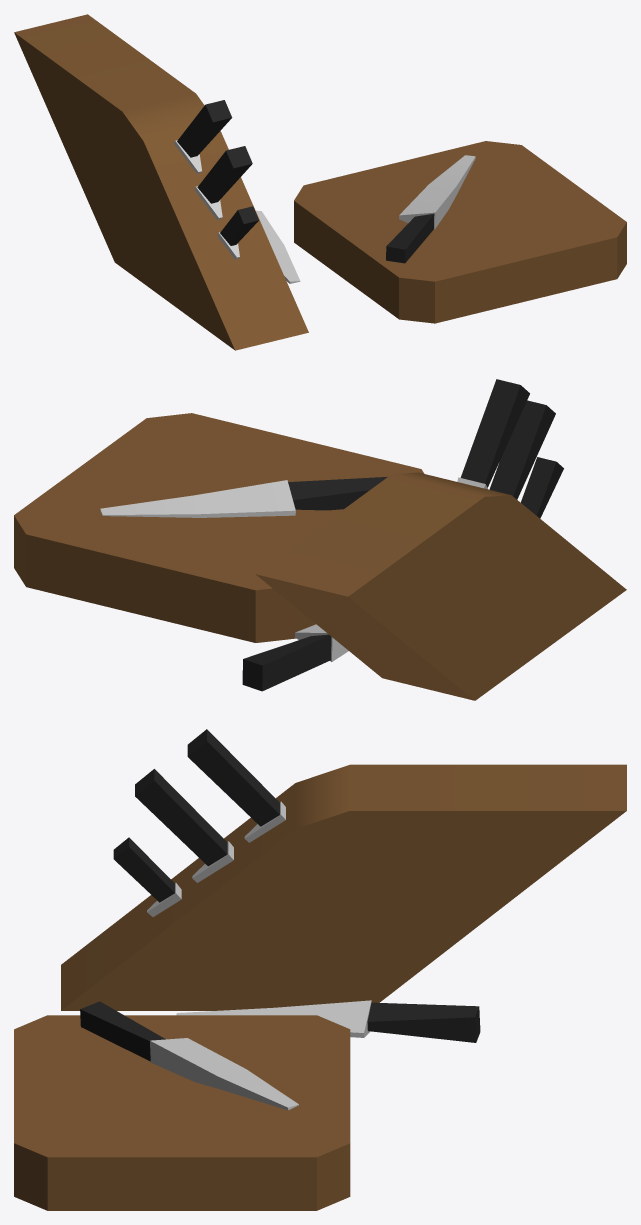
Rendered from geo_KnifeBlockChoppingBoard_01.fbx.
3 renders of one model, top to bottom at view 1: azimuth 30°, elevation 25°; view 2: azimuth 150°, elevation 25°; view 3: azimuth 270°, elevation 25°, orthographic. The views are drawn at different scales.
Visible parts, largest first — view 1: pCube1, pCube7, pCube5, pCube3, pCube2, pCube4, pCube6; view 2: pCube1, pCube7, pCube5, pCube2, pCube6, pCube3, pCube4; view 3: pCube1, pCube7, pCube5, pCube6, pCube3, pCube2, pCube4.
Boxes of the visible parts, bbox=[...] form: pCube1: bbox=[14, 14, 308, 350]; pCube7: bbox=[294, 141, 626, 323]; pCube5: bbox=[386, 155, 475, 263]; pCube3: bbox=[194, 146, 252, 220]; pCube2: bbox=[174, 100, 232, 173]; pCube4: bbox=[217, 206, 258, 259]; pCube6: bbox=[256, 210, 300, 283]; pCube1: bbox=[255, 472, 626, 700]; pCube7: bbox=[14, 413, 424, 642]; pCube5: bbox=[100, 477, 387, 517]; pCube2: bbox=[457, 379, 529, 489]; pCube6: bbox=[242, 624, 348, 691]; pCube3: bbox=[489, 400, 555, 499]; pCube4: bbox=[521, 457, 563, 518]; pCube1: bbox=[61, 764, 626, 1010]; pCube7: bbox=[14, 1015, 350, 1210]; pCube5: bbox=[80, 1001, 298, 1110]; pCube6: bbox=[176, 1000, 480, 1042]; pCube3: bbox=[135, 769, 233, 882]; pCube2: bbox=[187, 729, 285, 842]; pCube4: bbox=[113, 837, 181, 916].
Bounding box in the file's own units: 46.48 × 23.54 × 49.91.
